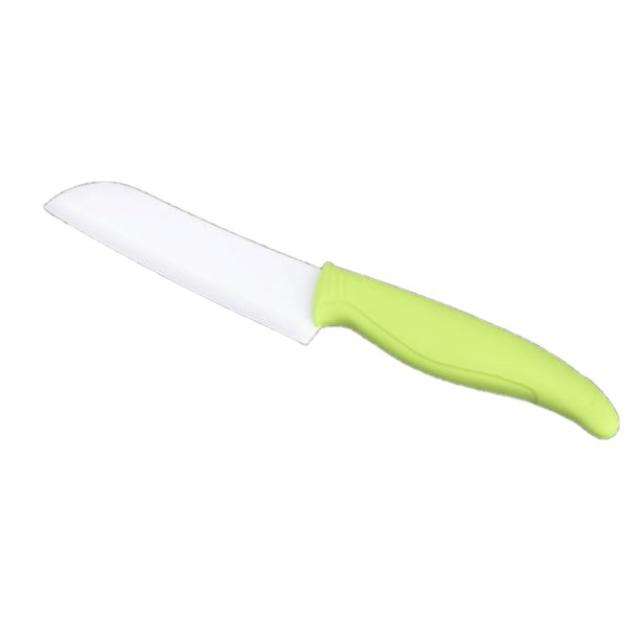knife: (42, 174, 629, 443)
